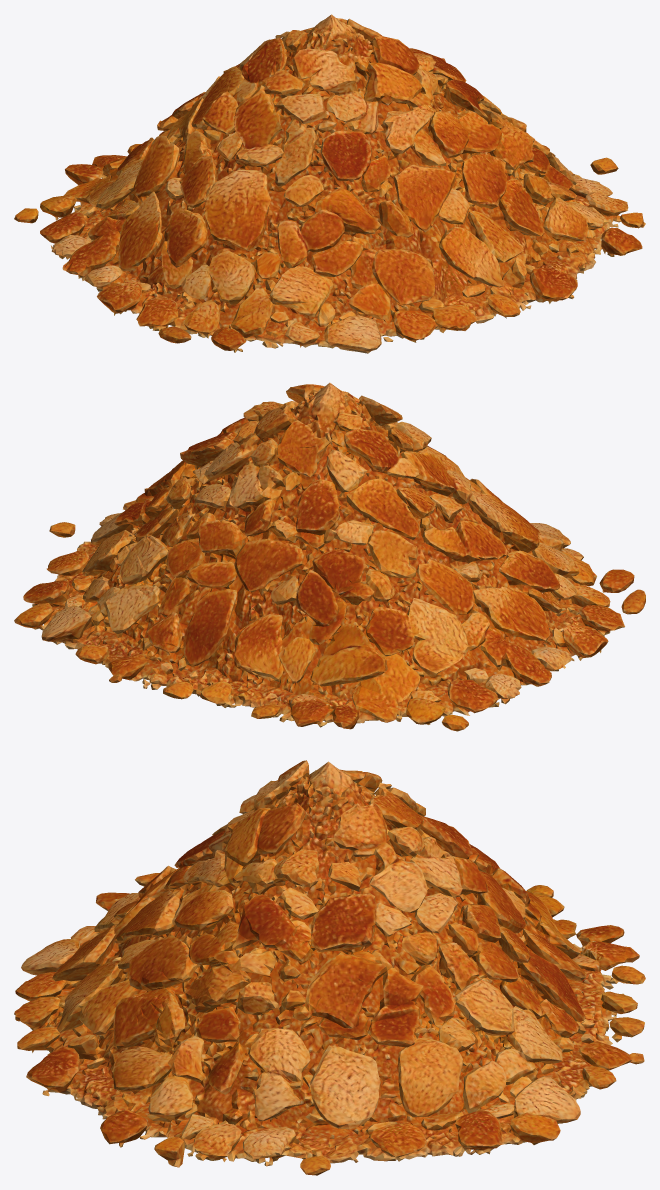
The model's file is lod_basic_pbr.fbx.
3 views of the same model, one above another, from view 1: azimuth 30°, elevation 25°; view 2: azimuth 150°, elevation 25°; view 3: azimuth 270°, elevation 25° (orthographic). The views are drawn at different scales.
Parts seen in each view (by area): view 1: model_LOD0; view 2: model_LOD0; view 3: model_LOD0.
Part boxes in pixels (x1,y1,x2,y2): model_LOD0: (14,14,645,353); model_LOD0: (14,382,645,731); model_LOD0: (14,760,645,1175).
Size of what is drawn, in the model's own units: 189 by 78.05 by 168.
Materials: 1 (1 with a texture image).
